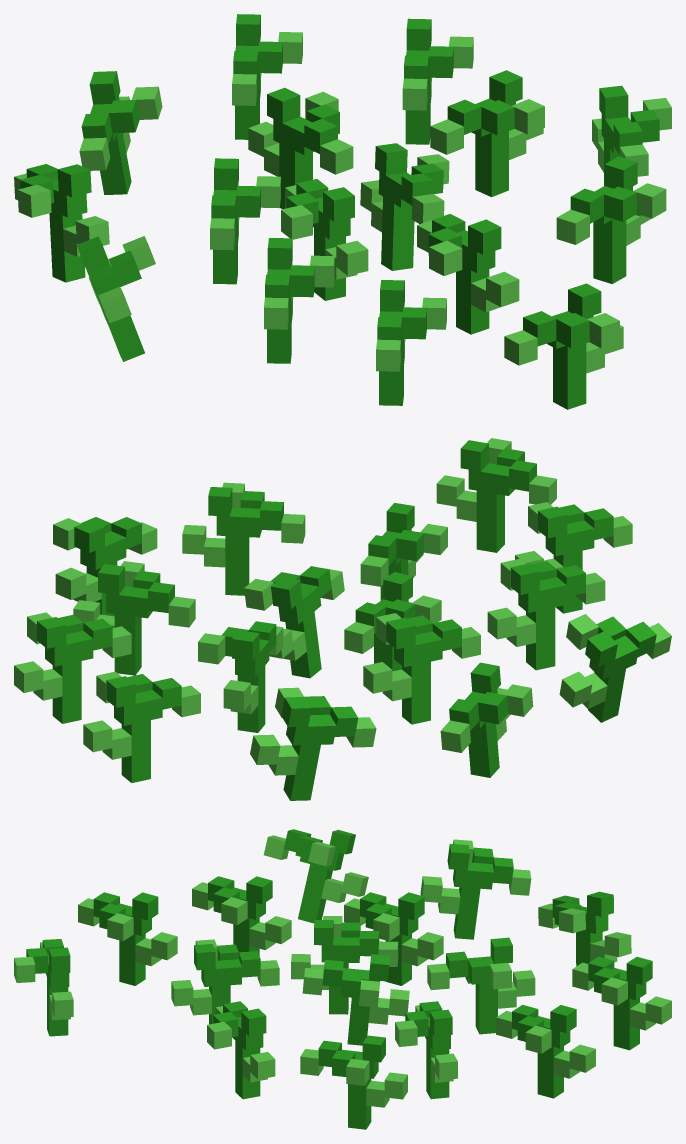
Rendered from sprouts.gltf.
3 views of the same model, one above another, from view 1: azimuth 30°, elevation 25°; view 2: azimuth 150°, elevation 25°; view 3: azimuth 270°, elevation 25° (orthographic). The views are drawn at different scales.
Visible parts, largest first — view 1: Cube.004, Cube.006, Cube.005, Cube.003, Cube.002, Cube.007, Cube.009, Cube.008, Cube.001, Cube.015, Cube.012, Cube.016 (+4 smaller); view 2: Cube.004, Cube.012, Cube.008, Cube.015, Cube.013, Cube.011, Cube.005, Cube.010, Cube.006, Cube.009, Cube.007, Cube.014 (+4 smaller); view 3: Cube.009, Cube.013, Cube.015, Cube.016, Cube.003, Cube.014, Cube.010, Cube.007, Cube.002, Cube.011, Cube.012, Cube.005 (+4 smaller).
Boxes of the visible parts, bbox=[...] form: Cube.004: bbox=[504, 283, 623, 409]; Cube.006: bbox=[430, 70, 544, 197]; Cube.005: bbox=[556, 156, 666, 284]; Cube.003: bbox=[248, 87, 353, 209]; Cube.002: bbox=[417, 214, 519, 334]; Cube.007: bbox=[360, 143, 449, 270]; Cube.009: bbox=[14, 164, 109, 282]; Cube.008: bbox=[79, 71, 162, 194]; Cube.001: bbox=[281, 179, 368, 300]; Cube.015: bbox=[402, 18, 473, 144]; Cube.012: bbox=[264, 238, 334, 363]; Cube.016: bbox=[376, 280, 446, 405]; Cube.004: bbox=[436, 438, 556, 552]; Cube.012: bbox=[487, 558, 605, 670]; Cube.008: bbox=[250, 687, 376, 800]; Cube.015: bbox=[14, 612, 131, 723]; Cube.013: bbox=[83, 671, 200, 782]; Cube.011: bbox=[363, 613, 480, 724]; Cube.005: bbox=[182, 482, 305, 595]; Cube.010: bbox=[559, 614, 671, 722]; Cube.006: bbox=[73, 561, 195, 675]; Cube.009: bbox=[440, 662, 533, 777]; Cube.007: bbox=[244, 566, 344, 678]; Cube.014: bbox=[53, 517, 157, 616]; Cube.009: bbox=[420, 839, 531, 939]; Cube.013: bbox=[572, 956, 671, 1050]; Cube.015: bbox=[496, 1005, 595, 1098]; Cube.016: bbox=[78, 892, 177, 985]; Cube.003: bbox=[427, 937, 535, 1034]; Cube.014: bbox=[300, 1035, 407, 1129]; Cube.010: bbox=[263, 829, 368, 923]; Cube.007: bbox=[302, 954, 409, 1045]; Cube.002: bbox=[171, 939, 279, 1024]; Cube.011: bbox=[344, 892, 443, 985]; Cube.012: bbox=[192, 876, 291, 955]; Cube.005: bbox=[207, 1001, 275, 1099].
Size of the model in its own units: 1.51 by 0.2711 by 1.73.
